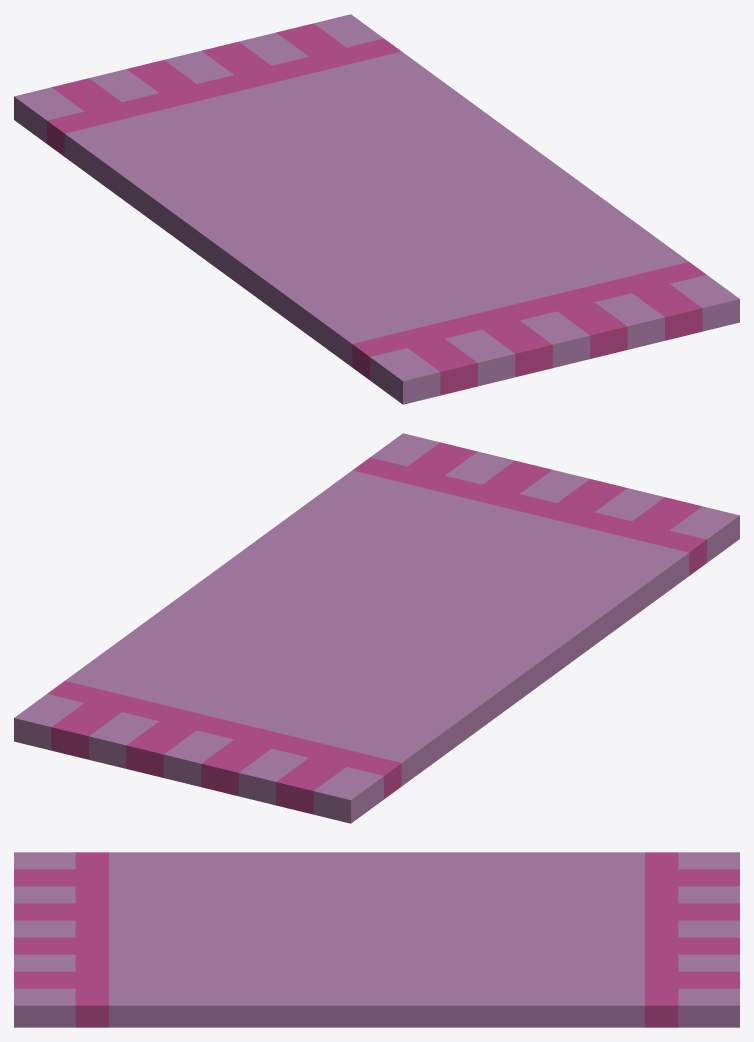
File: Towel_Purple_02.fbx
3 renders of one model, top to bottom at view 1: azimuth 30°, elevation 25°; view 2: azimuth 150°, elevation 25°; view 3: azimuth 270°, elevation 25°, orthographic. The views are drawn at different scales.
Parts seen in each view (by area): view 1: Towel_Purple_02; view 2: Towel_Purple_02; view 3: Towel_Purple_02.
Part boxes in pixels (bbox=[...]): Towel_Purple_02: bbox=[14, 14, 739, 404]; Towel_Purple_02: bbox=[14, 433, 739, 823]; Towel_Purple_02: bbox=[14, 852, 739, 1027].
Bounding box in the file's own units: 3 × 0.2 × 6.
